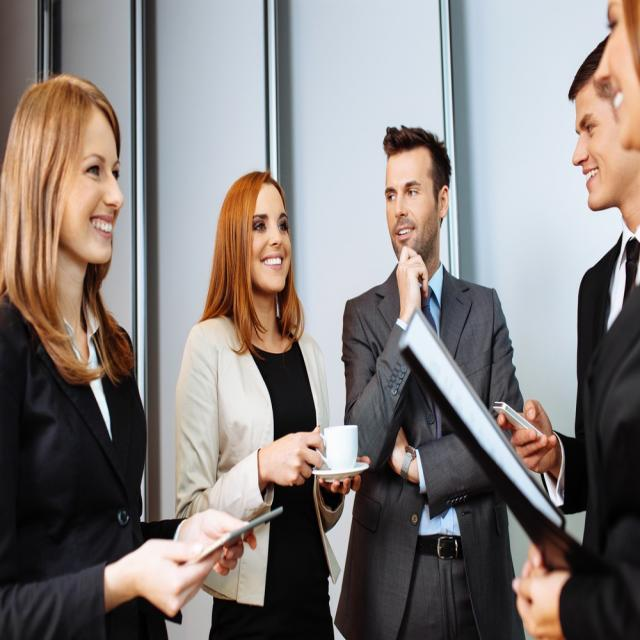body: (0, 72, 259, 639), (325, 120, 538, 639), (174, 170, 372, 638), (508, 0, 640, 639), (495, 31, 640, 522)
